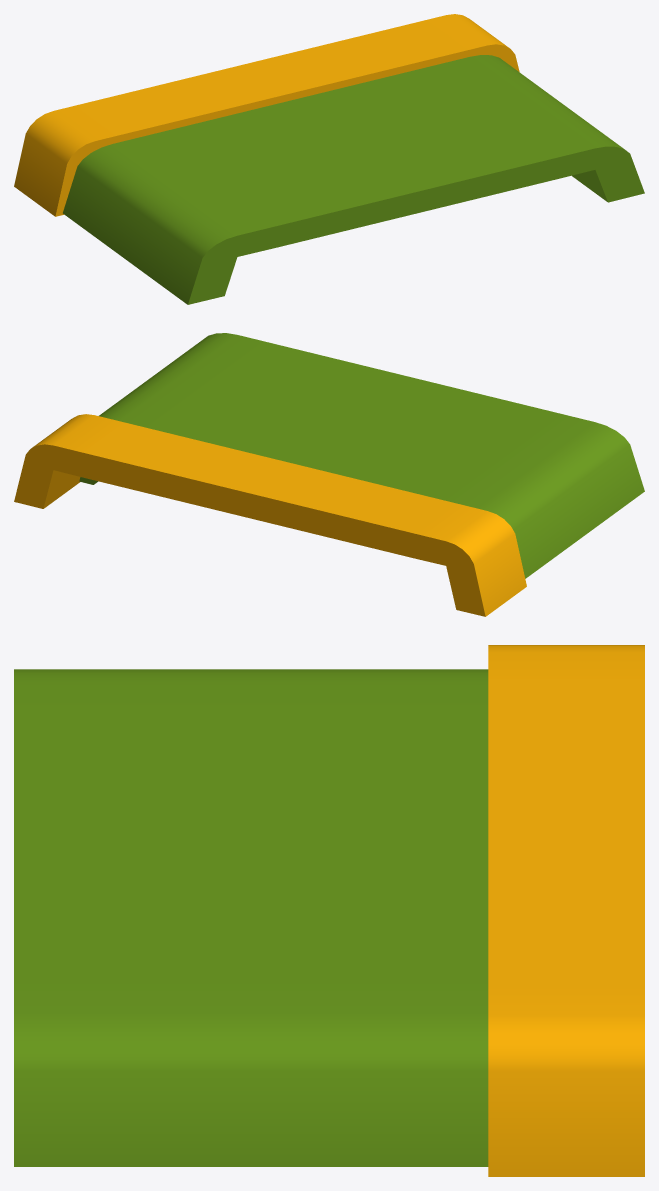
File: 3_odeyalo.fbx
The picture shows the model from 3 angles, top to bottom: view 1: azimuth 30°, elevation 25°; view 2: azimuth 150°, elevation 25°; view 3: azimuth 270°, elevation 25°; orthographic projection. The views are drawn at different scales.
Visible parts, largest first — view 1: Cube.027; view 2: Cube.027; view 3: Cube.027.
Boxes of the visible parts, x1,y1,x2,y2 form: Cube.027: [14, 14, 644, 304]; Cube.027: [14, 333, 644, 616]; Cube.027: [14, 645, 644, 1176].
Bounding box in the file's own units: 97.68 × 13.09 × 59.76.
